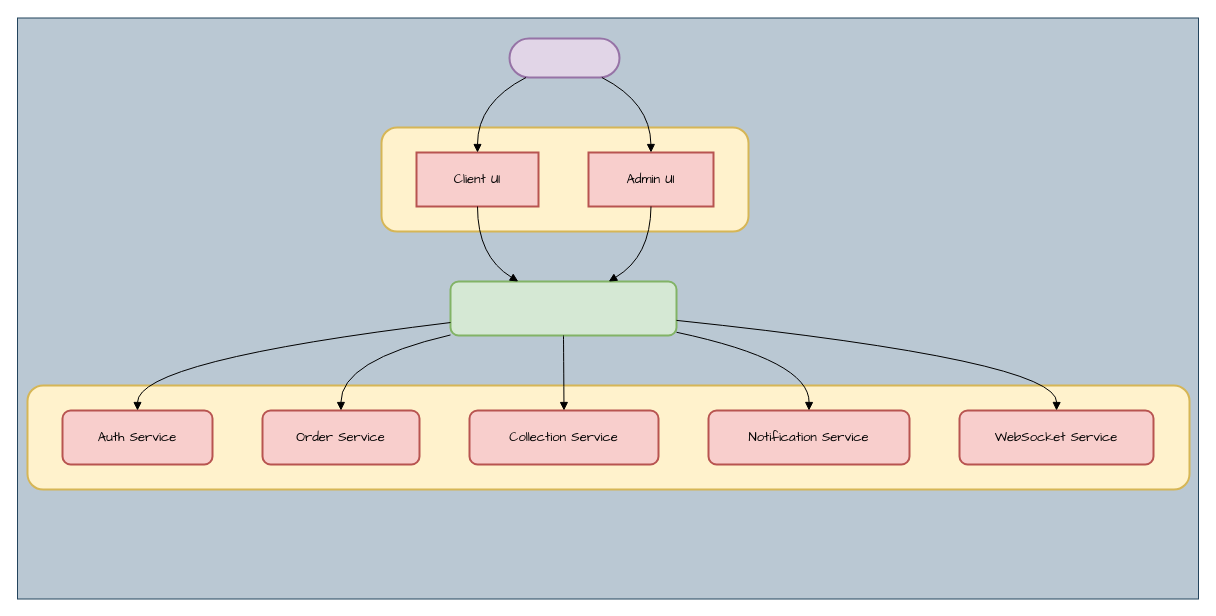
The diagram is 1216 pixels wide and 616 high, and some of its shapes have lost their labels. The shapes that lost their labels are listed below. From the top down, each one's centre as x and y in pixels, then its label:
the point at 564,57: User/Admin
the point at 563,308: Reverse Proxy Gateway
